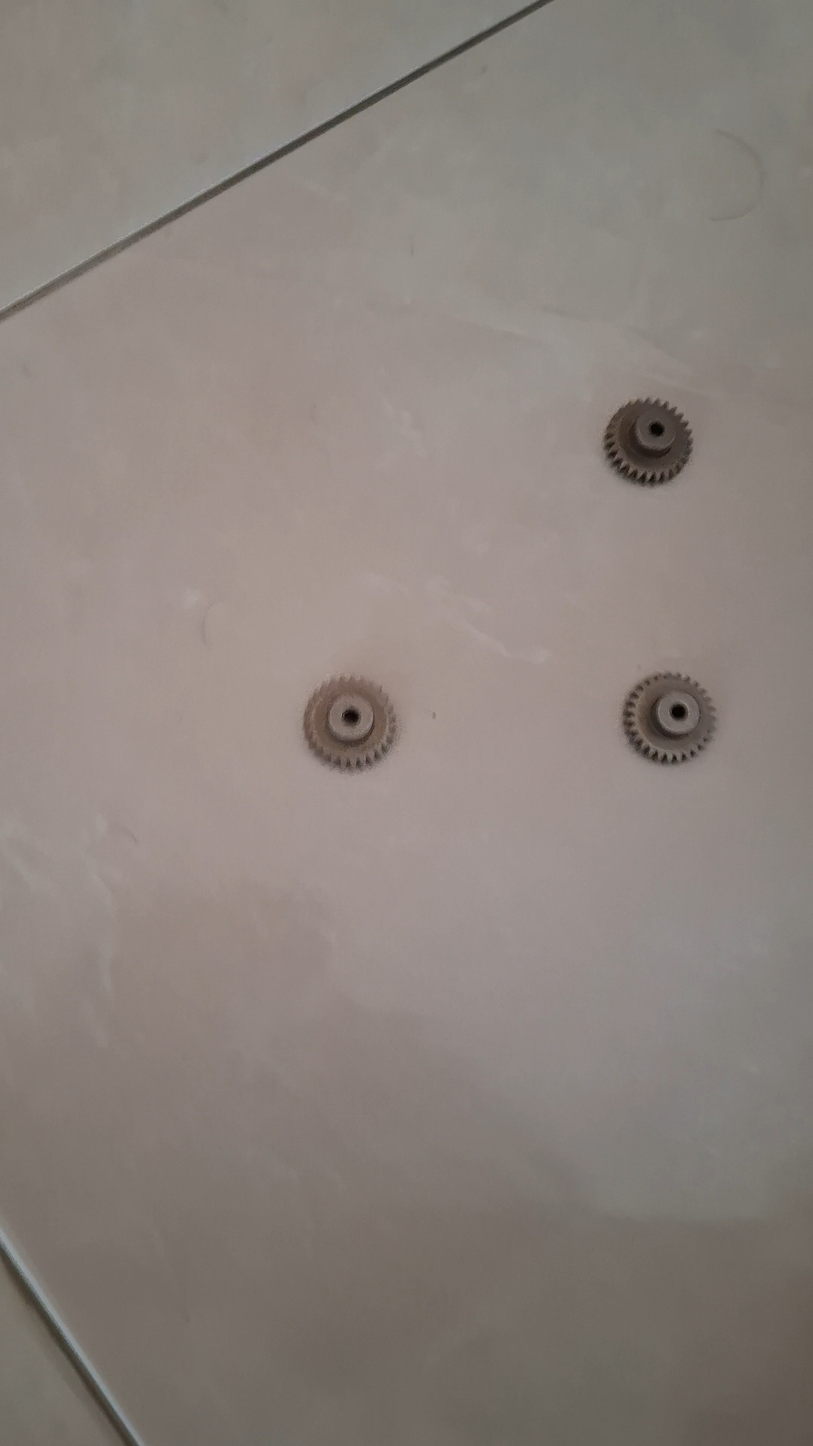spur gear: (303, 676, 396, 769), (623, 674, 716, 763), (603, 398, 692, 485)
